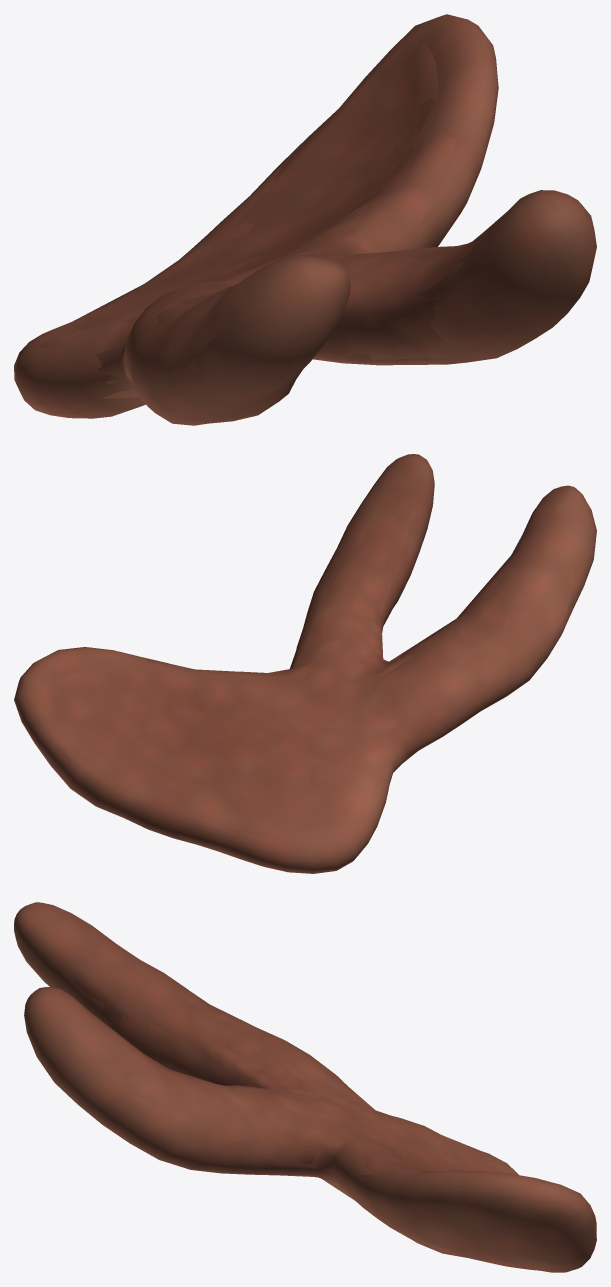
File: Thymus Gland.fbx
3 renders of one model, top to bottom at view 1: azimuth 30°, elevation 25°; view 2: azimuth 150°, elevation 25°; view 3: azimuth 270°, elevation 25°, orthographic. The views are drawn at different scales.
Visible parts, largest first — view 1: Thymus Gland, Thymus Gland low; view 2: Thymus Gland, Thymus Gland low; view 3: Thymus Gland, Thymus Gland low.
Part boxes in pixels (bbox=[...]): Thymus Gland: bbox=[14, 14, 596, 425]; Thymus Gland low: bbox=[36, 43, 492, 398]; Thymus Gland: bbox=[14, 454, 596, 873]; Thymus Gland low: bbox=[43, 507, 581, 856]; Thymus Gland: bbox=[14, 902, 596, 1272]; Thymus Gland low: bbox=[66, 946, 584, 1265].
Bounding box in the file's own units: 5.06 × 3.34 × 6.17.
